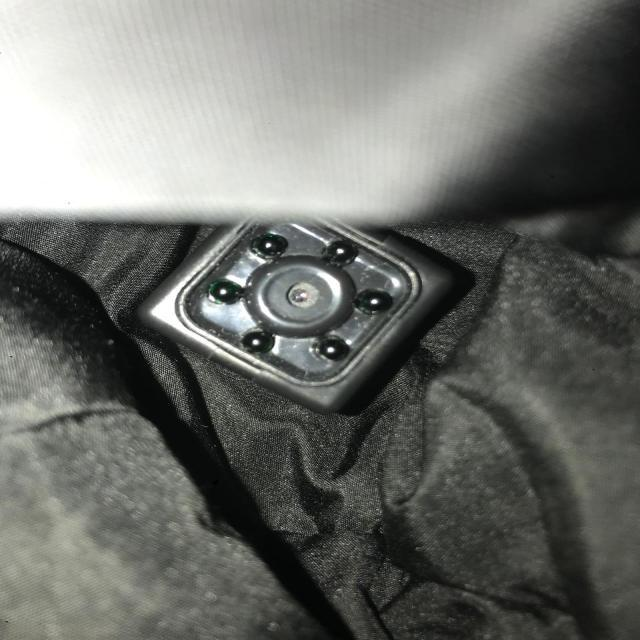hidden camera: (262, 268, 336, 326)
